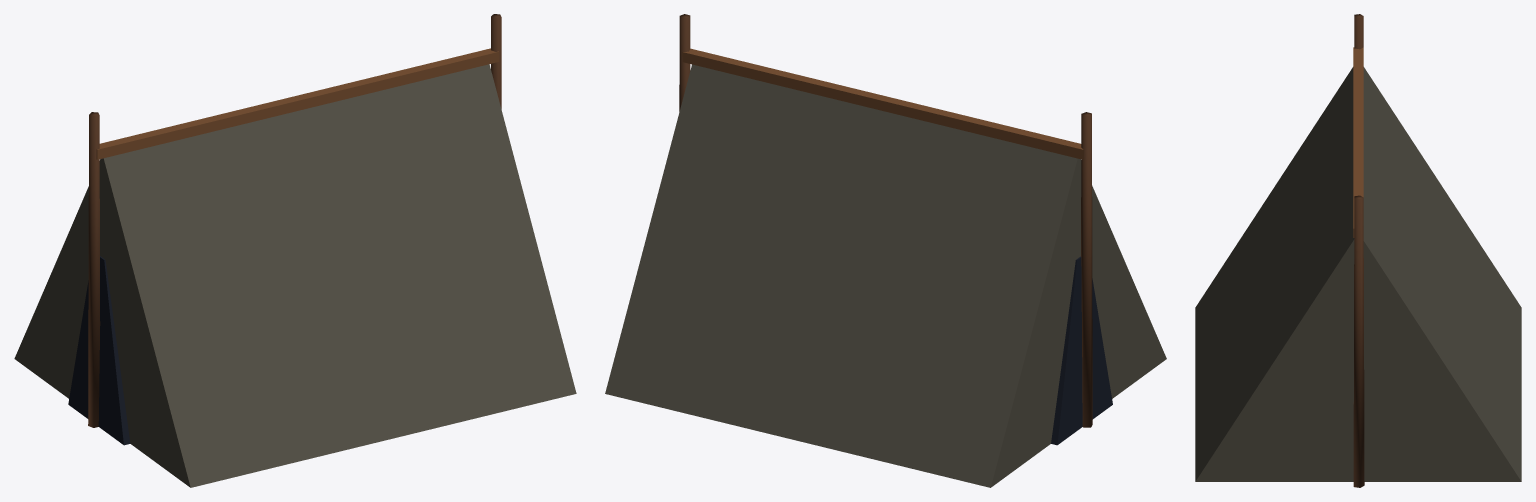
File: namet_dark.glb
The picture shows the model from 3 angles, left to right: view 1: azimuth 30°, elevation 25°; view 2: azimuth 150°, elevation 25°; view 3: azimuth 270°, elevation 25°; orthographic projection. The views are drawn at different scales.
Parts seen in each view (by area): view 1: namet_dark; view 2: namet_dark; view 3: namet_dark.
Part boxes in pixels (left/top/right/bottom): namet_dark: left=14, top=14, right=576, bottom=487; namet_dark: left=605, top=14, right=1166, bottom=487; namet_dark: left=1195, top=14, right=1521, bottom=487.
Bounding box in the file's own units: 2.57 × 1.85 × 1.9.
